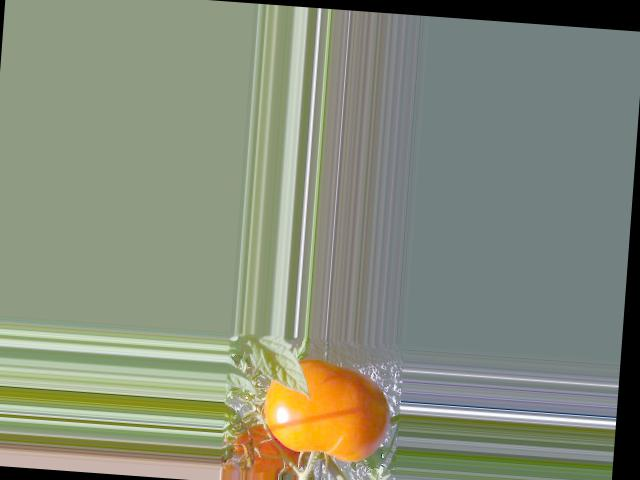tomato: (260, 356, 393, 464)
